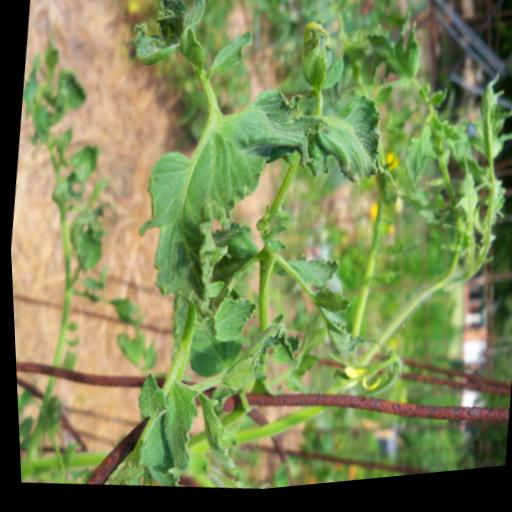Mosaic Virus: (131, 103, 274, 312), (300, 89, 404, 203), (117, 373, 200, 488), (115, 0, 226, 85), (205, 294, 256, 355), (279, 255, 343, 299)
